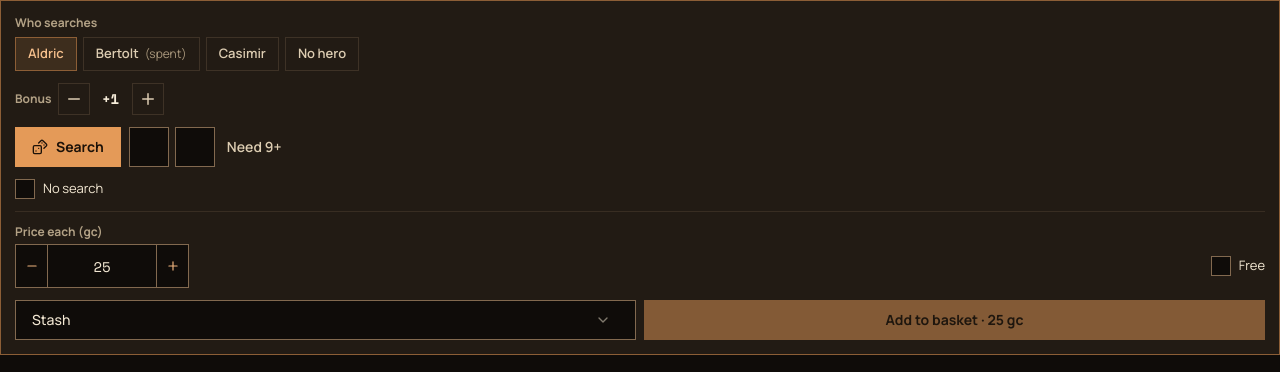
Test case: AcquireForm › locks once found: the button reads Searched and the other searchers grey out
Step 1. Click the button "Aldric" → x=46, y=54, box 15,37 -> 77,71
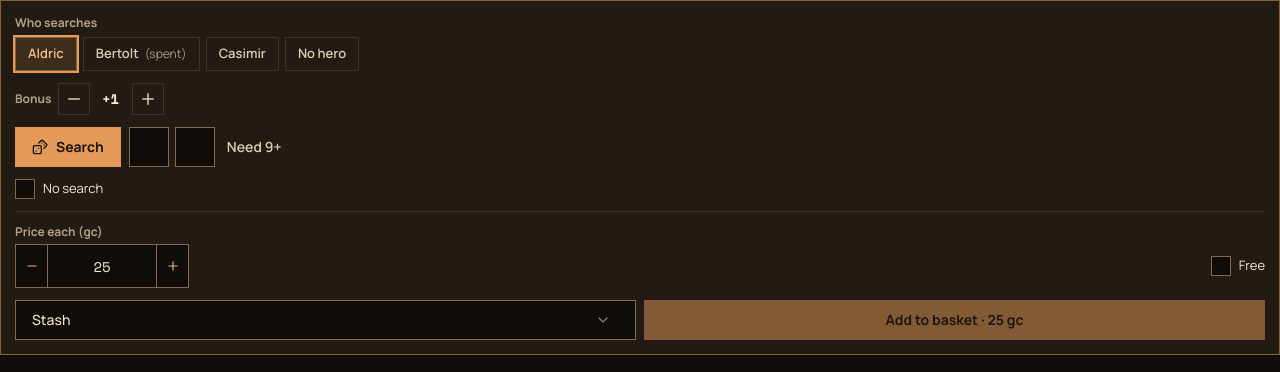
Step 2. Click the button "Search" → x=68, y=147, box 15,127 -> 121,167
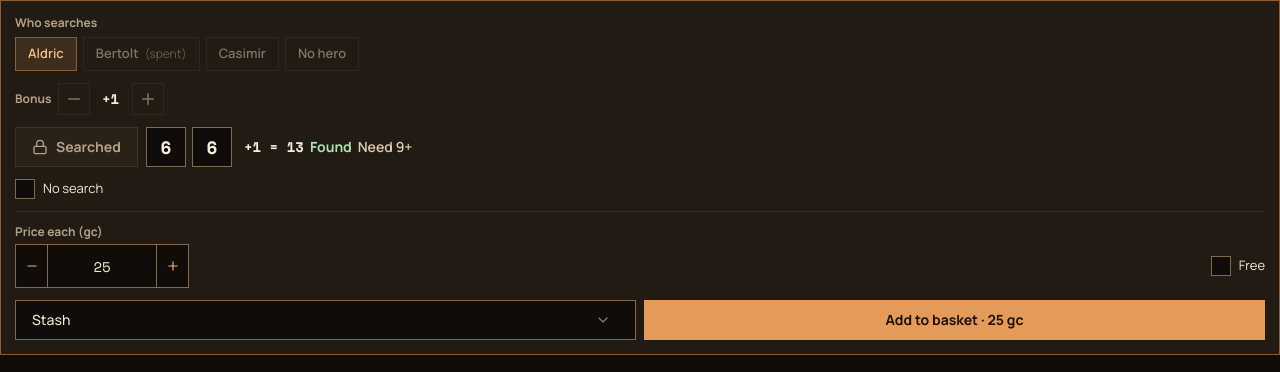
Check: the button "Searched" is disabled, box 15,127 -> 138,167
Check: the button "Bertolt (spent)" is disabled, box 83,37 -> 200,71
Check: the button "No hero" is disabled, box 285,37 -> 359,71
